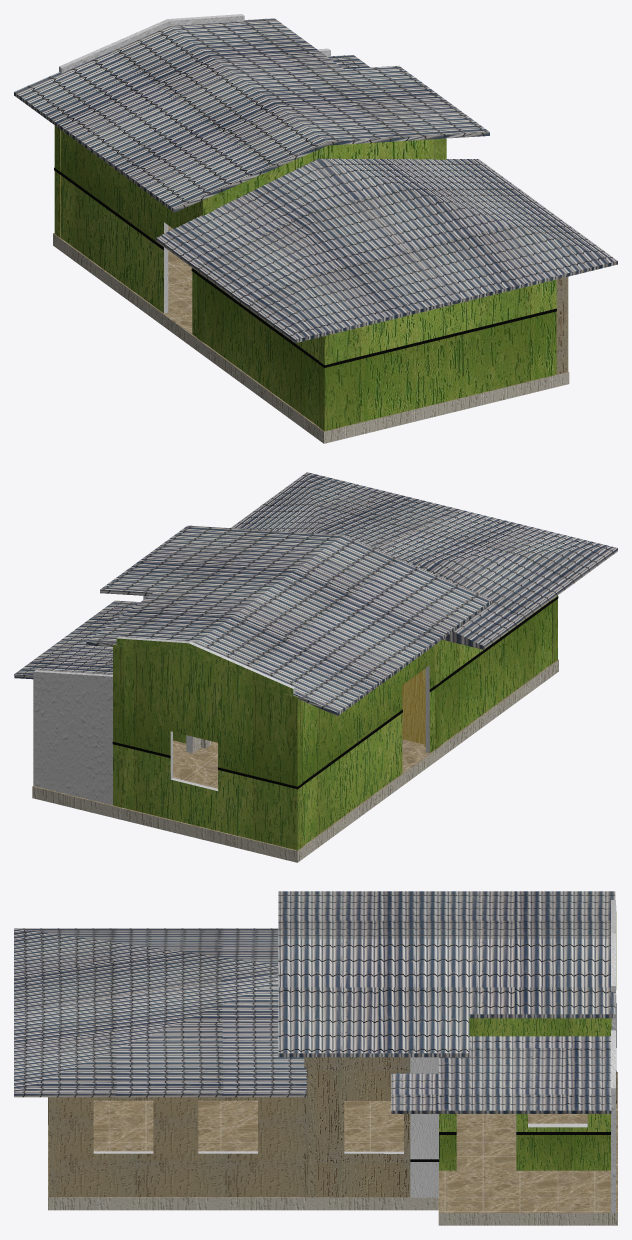
Rendered from Apocalipse Z - Casa C1 - 02.fbx.
The picture shows the model from 3 angles, top to bottom: view 1: azimuth 30°, elevation 25°; view 2: azimuth 150°, elevation 25°; view 3: azimuth 270°, elevation 25°; orthographic projection. The views are drawn at different scales.
Parts seen in each view (by area): view 1: Cubo.003, Cubo.001, Cubo.002, Cubo, Cubo.006; view 2: Cubo.001, Cubo.002, Cubo.003, Cubo, Cubo.006; view 3: Cubo.002, Cubo.003, Cubo.001, Cubo, Cubo.005, Cubo.006.
Part boxes in pixels (box(x1,y1,x2,y2)): Cubo.003: box(156, 158, 617, 342); Cubo.001: box(54, 14, 568, 431); Cubo.002: box(14, 18, 489, 212); Cubo: box(53, 225, 569, 443); Cubo.006: box(54, 167, 556, 367); Cubo.001: box(33, 595, 557, 850); Cubo.002: box(14, 525, 492, 716); Cubo.003: box(231, 472, 617, 649); Cubo: box(32, 659, 558, 862); Cubo.006: box(112, 596, 558, 789); Cubo.002: box(278, 891, 615, 1113); Cubo.003: box(14, 928, 306, 1097); Cubo.001: box(48, 900, 616, 1212); Cubo: box(48, 1072, 617, 1225); Cubo.005: box(410, 1057, 438, 1197); Cubo.006: box(48, 1003, 616, 1161).
Bounding box in the file's own units: 1889 × 1052 × 2749.
Materials: 23 (16 with a texture image).
